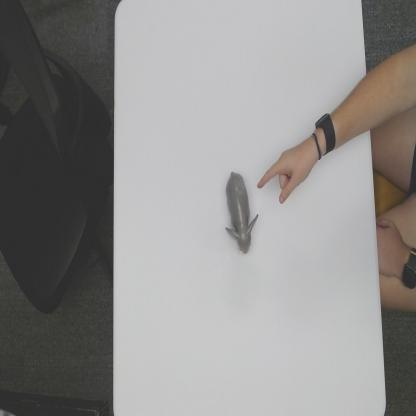Arm: (336, 72, 367, 151)
Elephant: (224, 170, 259, 255)
Hand: (257, 132, 319, 206)
